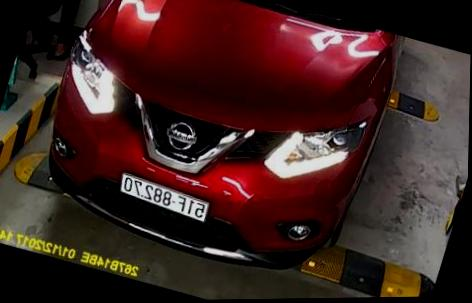License_Plate: (116, 173, 210, 222)
